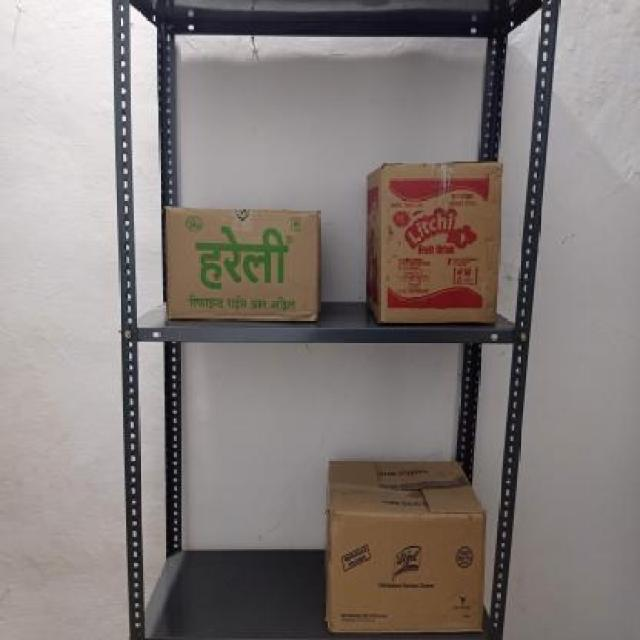box: (380, 165, 498, 322), (165, 204, 318, 321), (330, 516, 484, 630)
